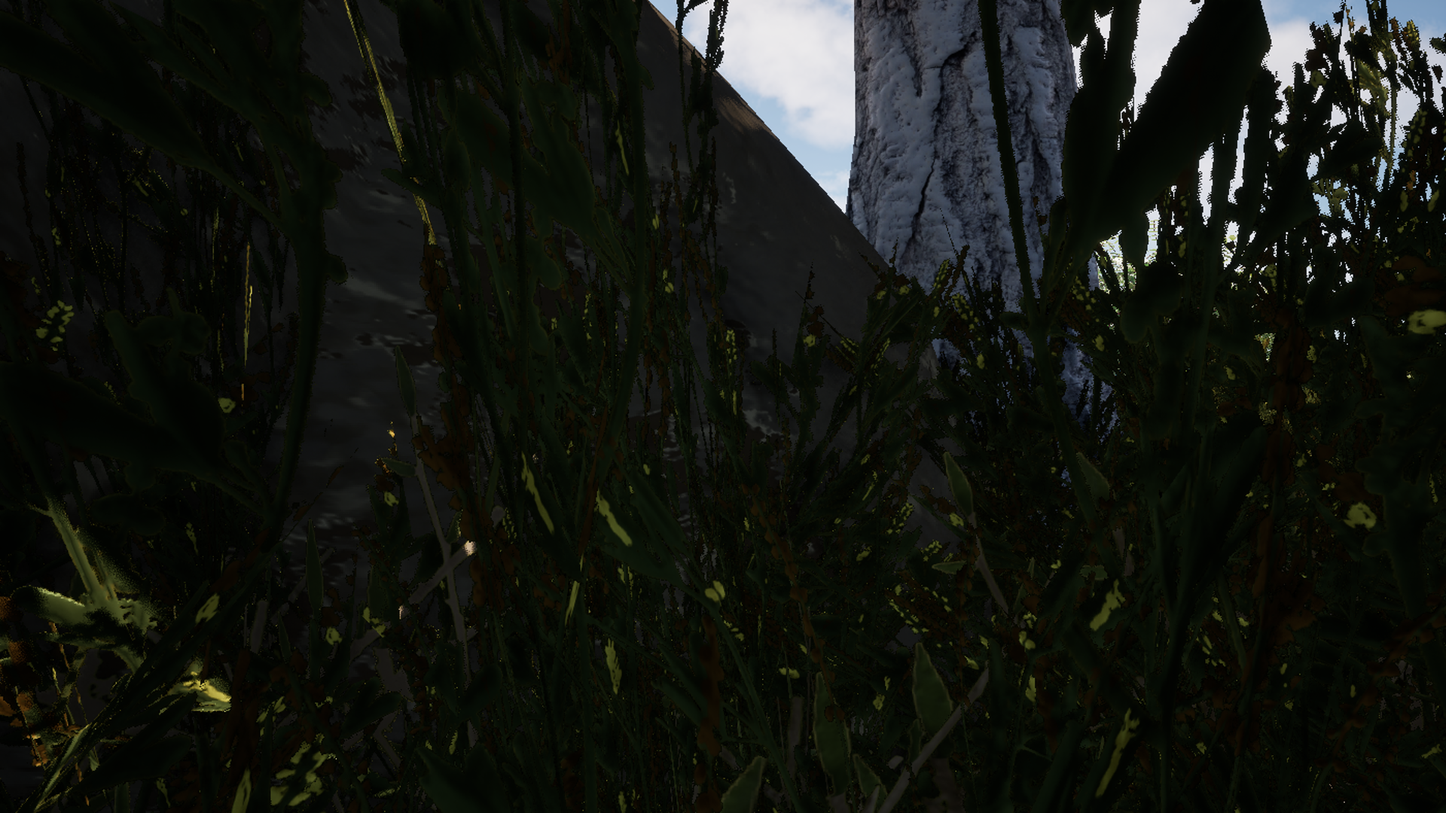Piplup: (273, 13, 1029, 800)
